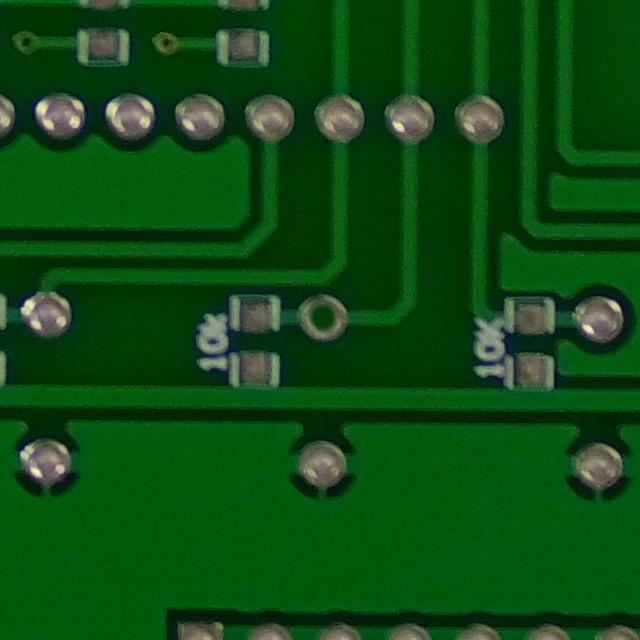missing_hole: (292, 292, 349, 348)
